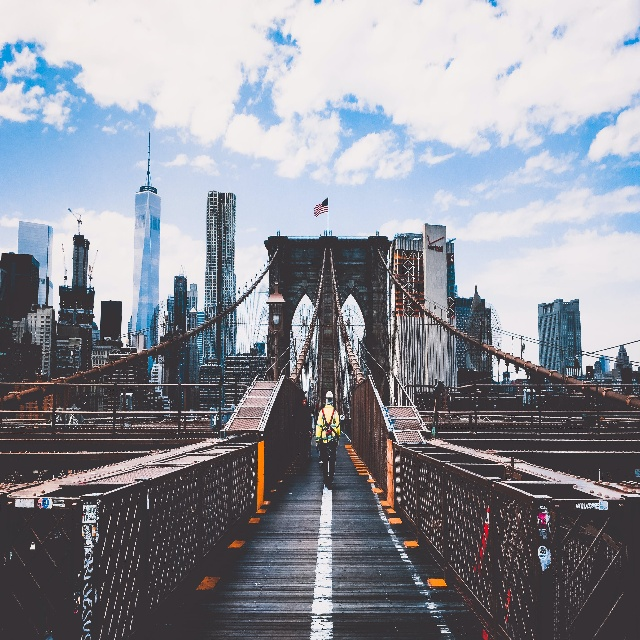Guantes: (315, 443, 320, 453)
